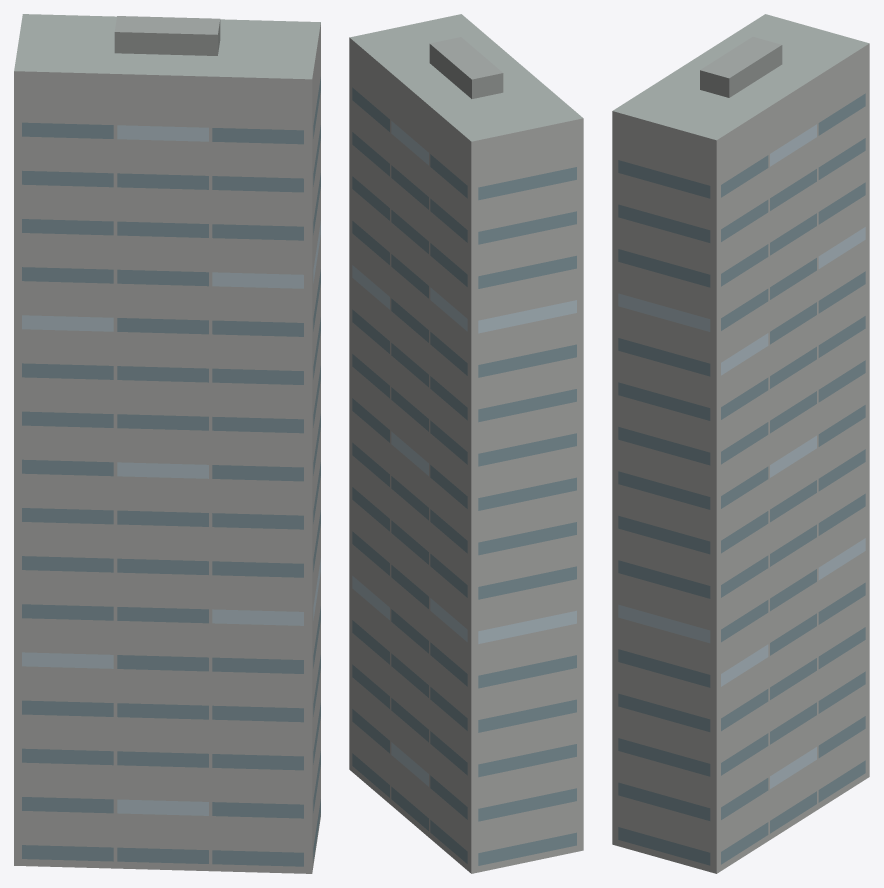
File: fallback-jamsil-parkrio-116.glb
3 renders of one model, left to right at view 1: azimuth 30°, elevation 25°; view 2: azimuth 150°, elevation 25°; view 3: azimuth 270°, elevation 25°, orthographic. The views are drawn at different scales.
Parts seen in each view (by area): view 1: fallback-jamsil-parkrio-116; view 2: fallback-jamsil-parkrio-116; view 3: fallback-jamsil-parkrio-116.
Part boxes in pixels (left/top/right/bottom): fallback-jamsil-parkrio-116: left=14, top=14, right=320, bottom=873; fallback-jamsil-parkrio-116: left=349, top=14, right=583, bottom=873; fallback-jamsil-parkrio-116: left=612, top=14, right=869, bottom=873.
Size of the model in its own units: 33.09 by 92 by 28.48.
